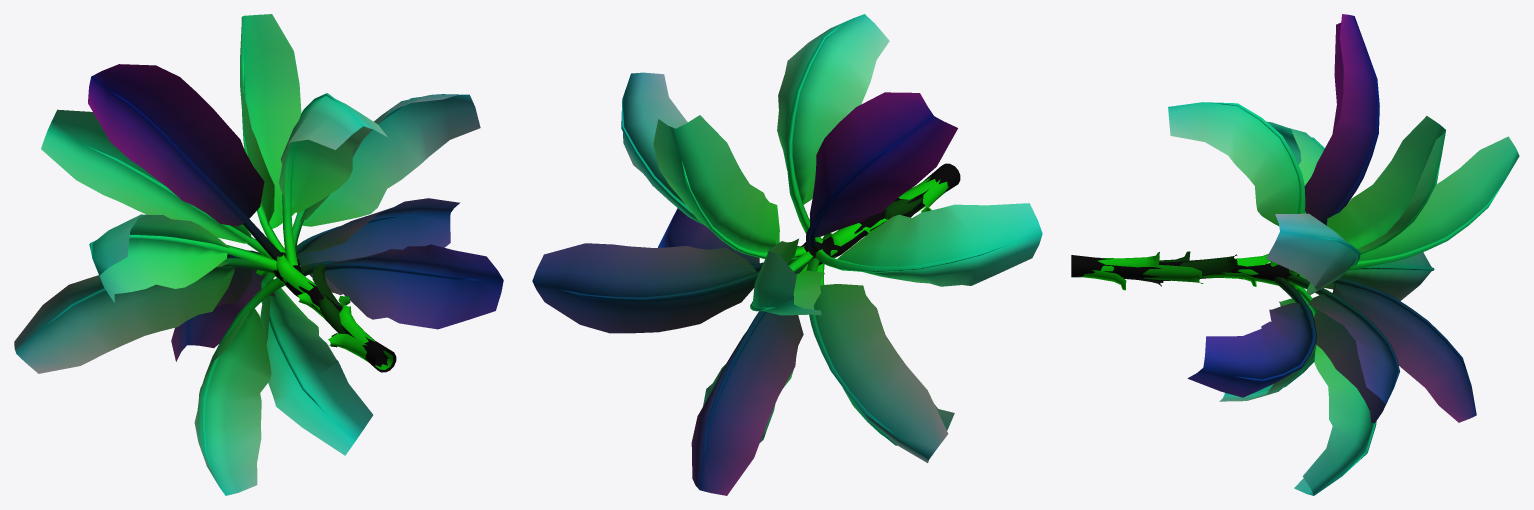
Rendered from BananaPlant.fbx.
3 renders of one model, left to right at view 1: azimuth 30°, elevation 25°; view 2: azimuth 150°, elevation 25°; view 3: azimuth 270°, elevation 25°, orthographic. The views are drawn at different scales.
Parts seen in each view (by area): view 1: Tree_2; view 2: Tree_2; view 3: Tree_2.
Boxes of the visible parts, x1=… form: Tree_2: x1=14, y1=14, x2=503, y2=495; Tree_2: x1=532, y1=14, x2=1042, y2=495; Tree_2: x1=1071, y1=14, x2=1519, y2=495.
Bounding box in the file's own units: 289 × 274 × 289.
